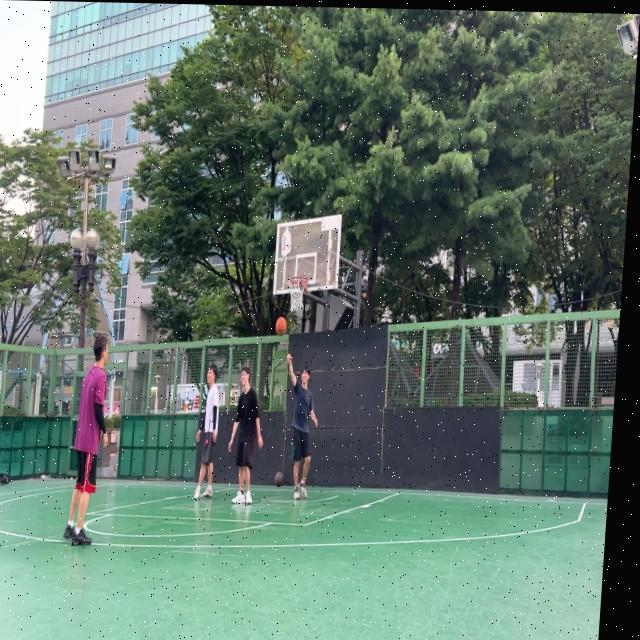basketball: (275, 316, 288, 336), (274, 471, 284, 488)
hoop: (286, 276, 308, 313)
